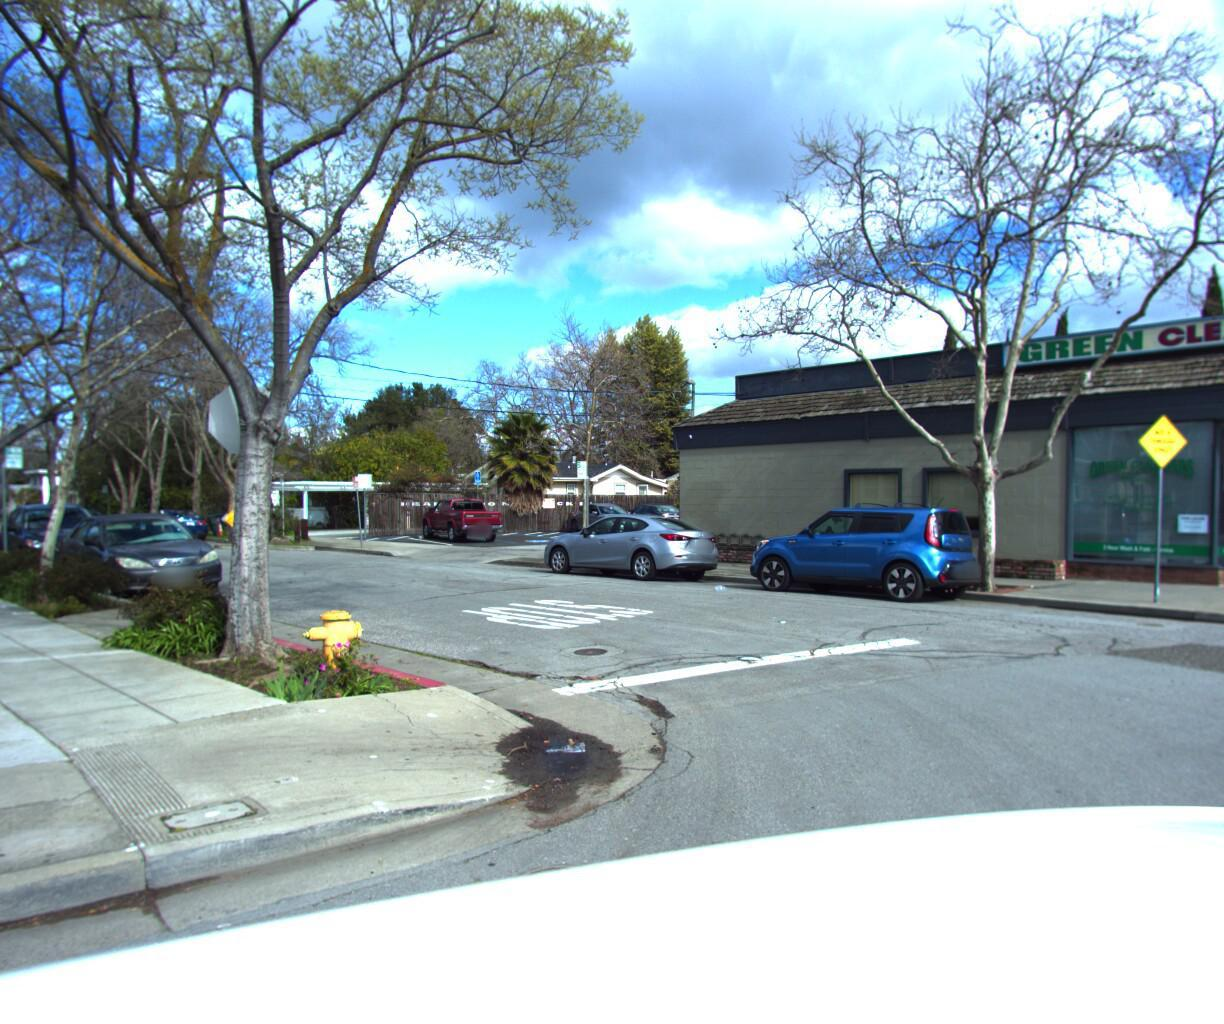car: (741, 502, 1005, 615), (53, 511, 241, 610), (536, 511, 737, 593), (0, 504, 133, 583), (421, 499, 510, 547), (138, 513, 217, 547)
